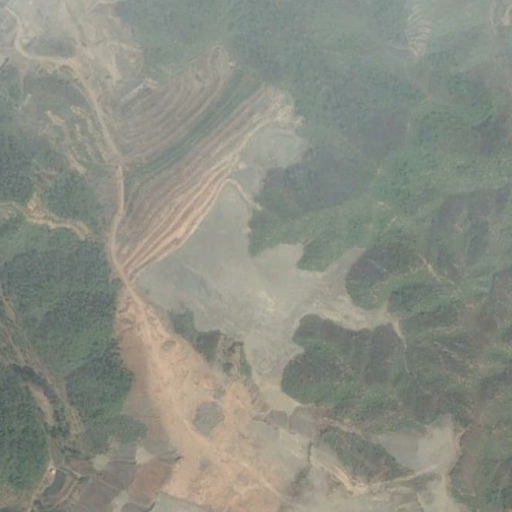tp: (108, 46, 399, 420)
